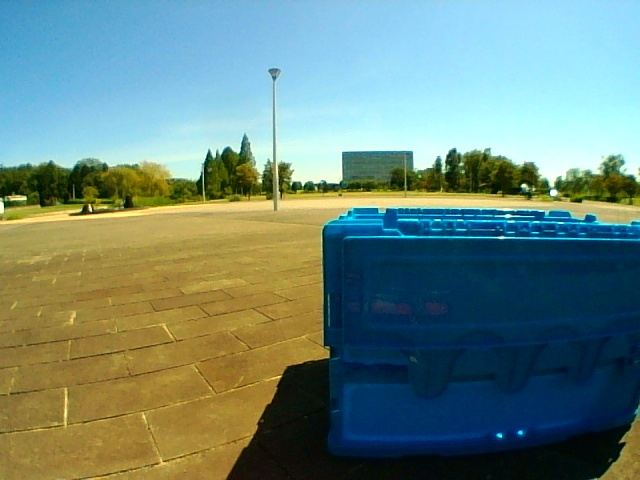blue_box: (326, 212, 640, 446)
